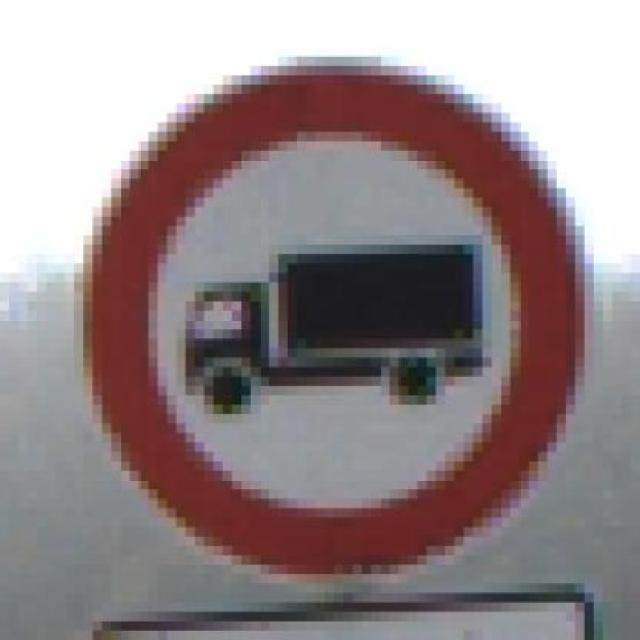Truck traffic is prohibited: (37, 66, 594, 574)
